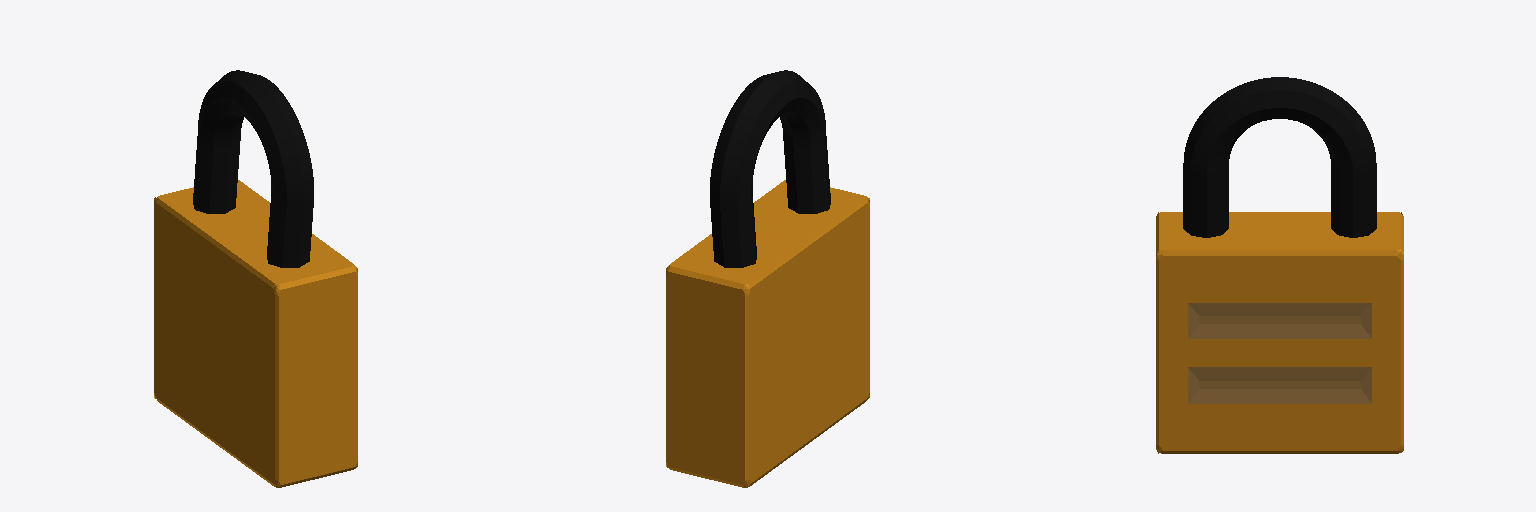
File: 3dfun.obj
3 views of the same model, side by side, from view 1: azimuth 30°, elevation 25°; view 2: azimuth 150°, elevation 25°; view 3: azimuth 270°, elevation 25° (orthographic).
Parts seen in each view (by area): view 1: Cube, Circle; view 2: Cube, Circle; view 3: Cube, Circle.
Boxes of the visible parts, box(x1,y1,x2,y2) form: Cube: box(154, 180, 357, 487); Circle: box(193, 70, 313, 267); Cube: box(666, 180, 869, 487); Circle: box(710, 70, 830, 267); Cube: box(1156, 212, 1403, 453); Circle: box(1183, 77, 1376, 237).
Size of the model in its own units: 0.9449 by 3.89 by 2.45.